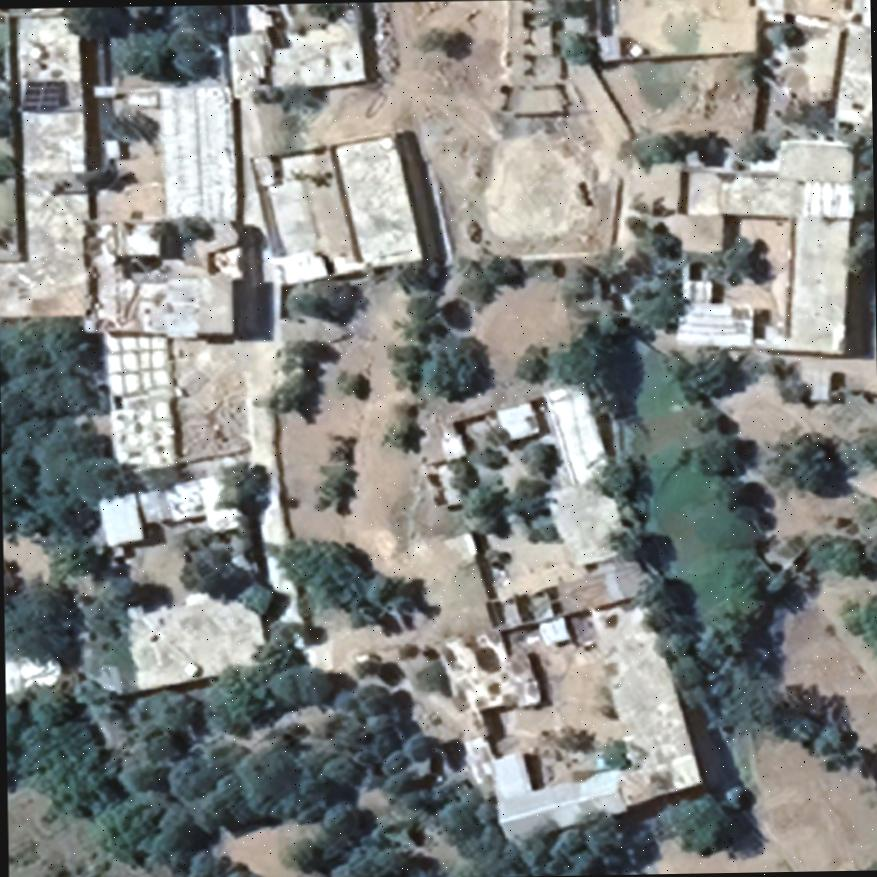Solarpanel: (16, 76, 70, 116)
